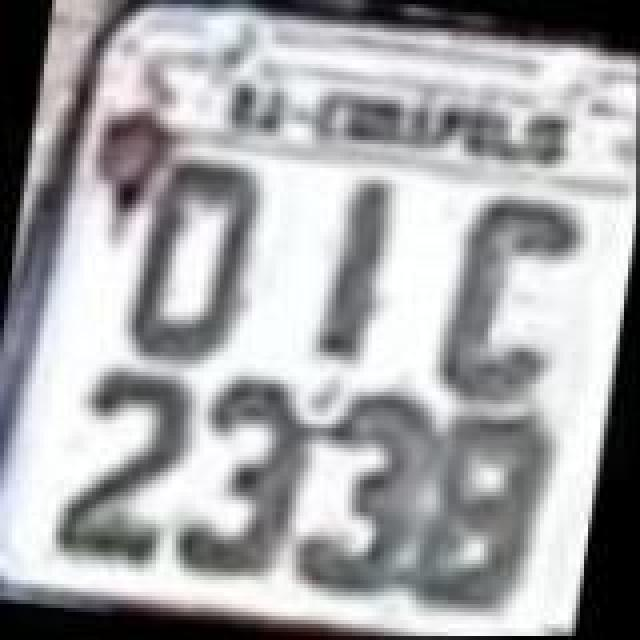1: (308, 174, 404, 374)
2: (48, 360, 208, 576)
3: (296, 390, 452, 610), (176, 376, 320, 592)
8: (410, 406, 562, 622)
C: (432, 196, 584, 416)
O: (122, 146, 270, 374)
